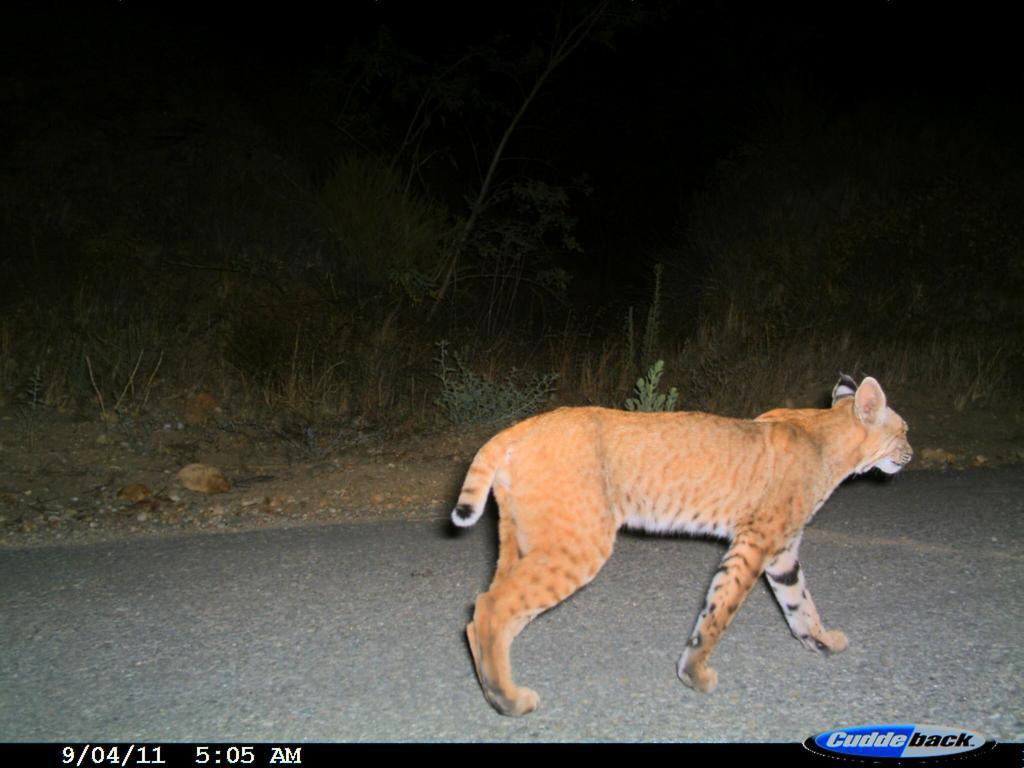bobcat: (432, 363, 925, 722)
